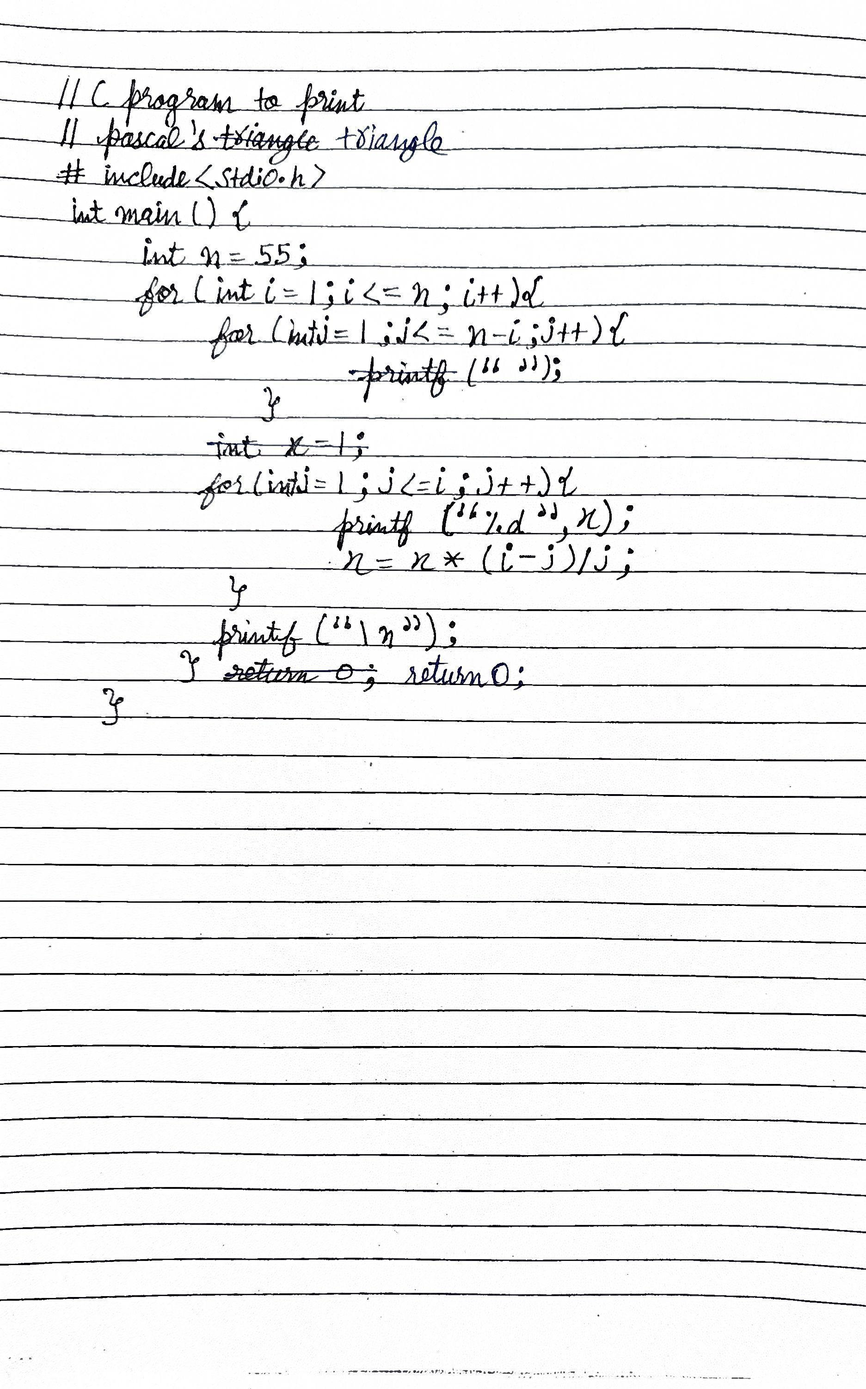cuttings: (221, 658, 380, 693), (347, 355, 459, 404), (205, 430, 372, 462), (212, 121, 322, 166)
